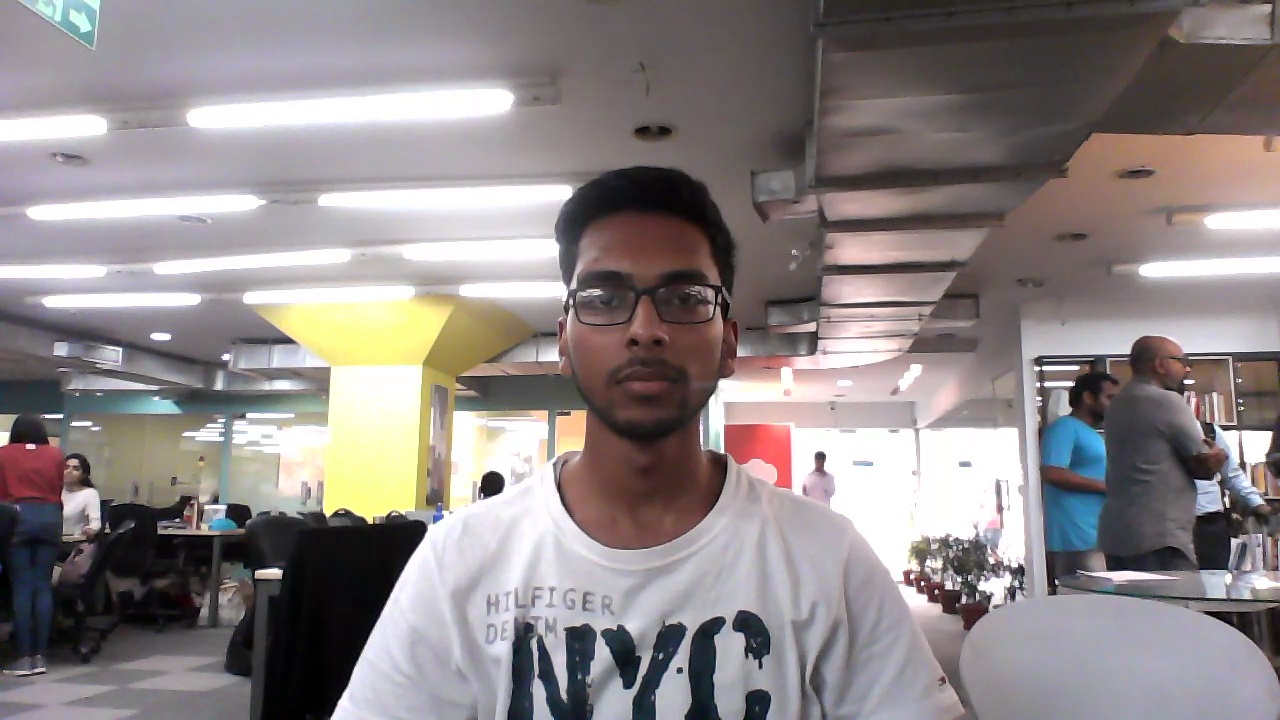open: (563, 178, 734, 425)
